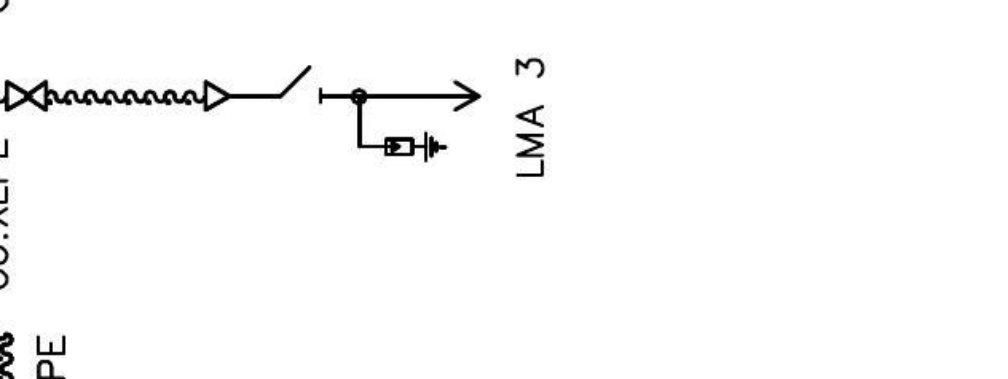22_ds_la_out: (278, 64, 483, 164)
terminator_single: (201, 78, 231, 114)
terminator_splicing_kits: (4, 79, 48, 113)
